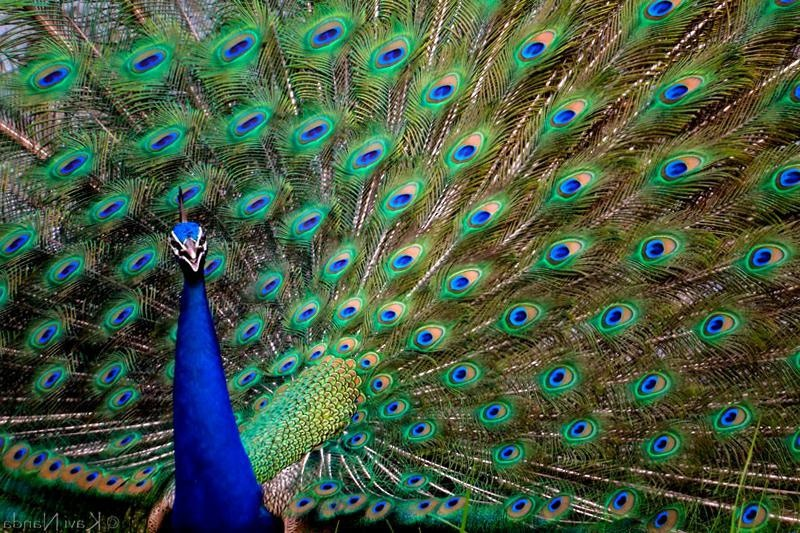peacock: (19, 1, 800, 509)
